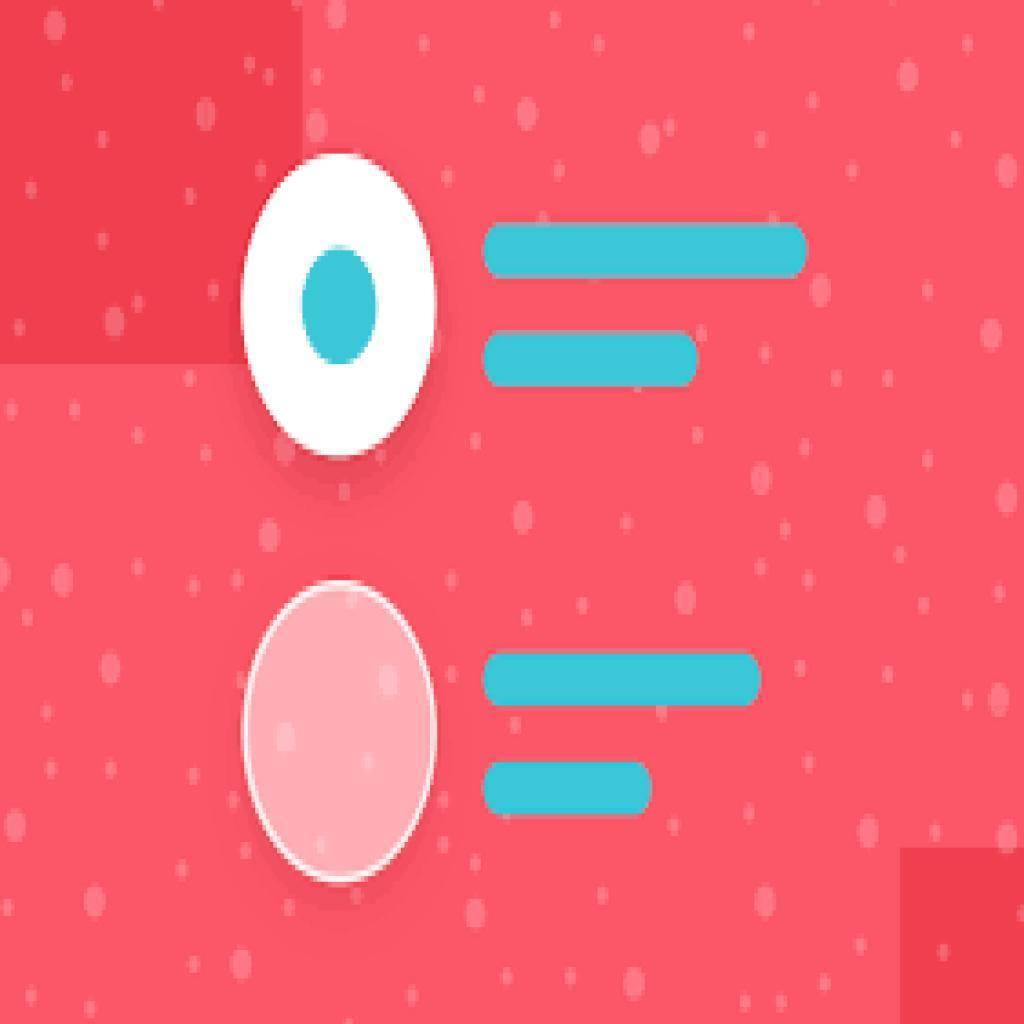radio: (242, 582, 438, 889), (245, 154, 440, 461)
